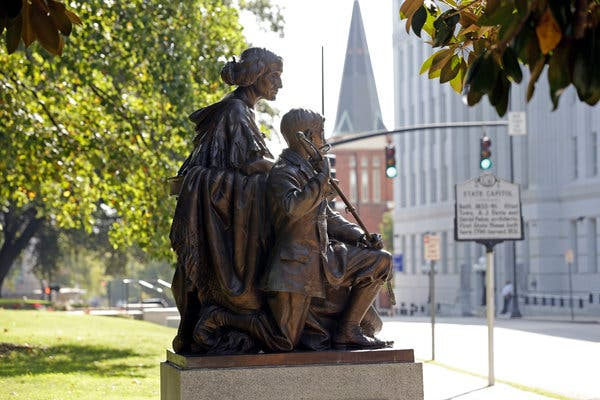person-like: (164, 43, 290, 358), (262, 105, 394, 352)
